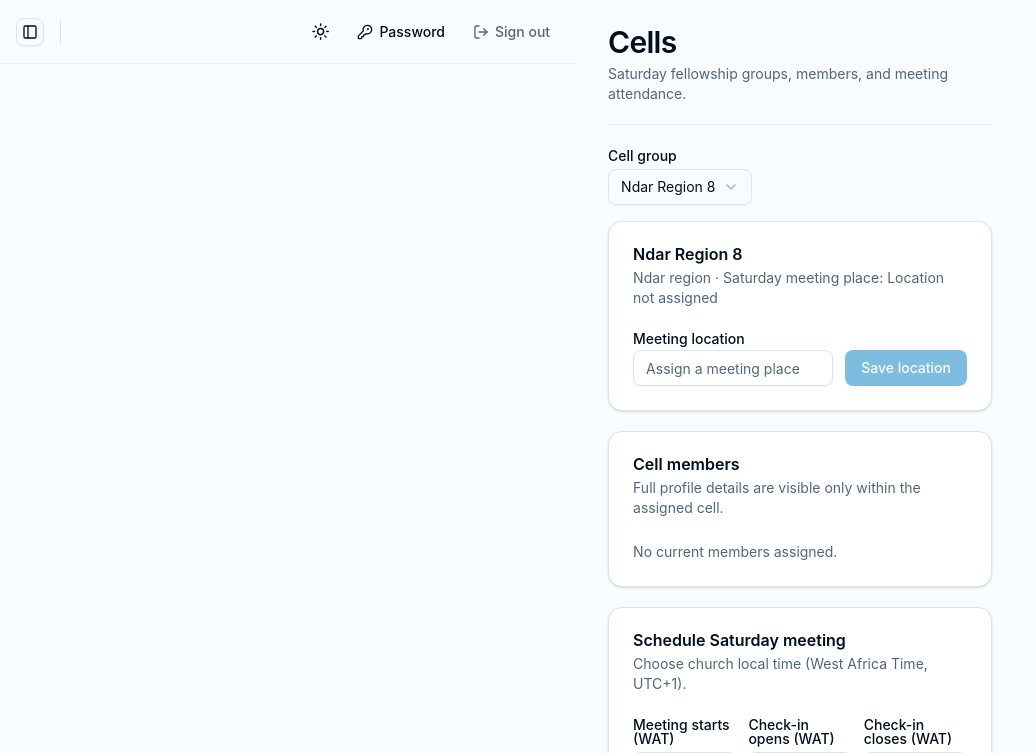
Test: CMAMS browser workflows › lets a leader set only their assigned cell location
The image size is (1036, 753).
Expected: the text "Ndar region · Saturday meeting place: Location not assigned" is shown, [633,268,967,308]
Type "Hall A" into the field labelled "Meeting location" at (733, 368), box [633,350,833,386]
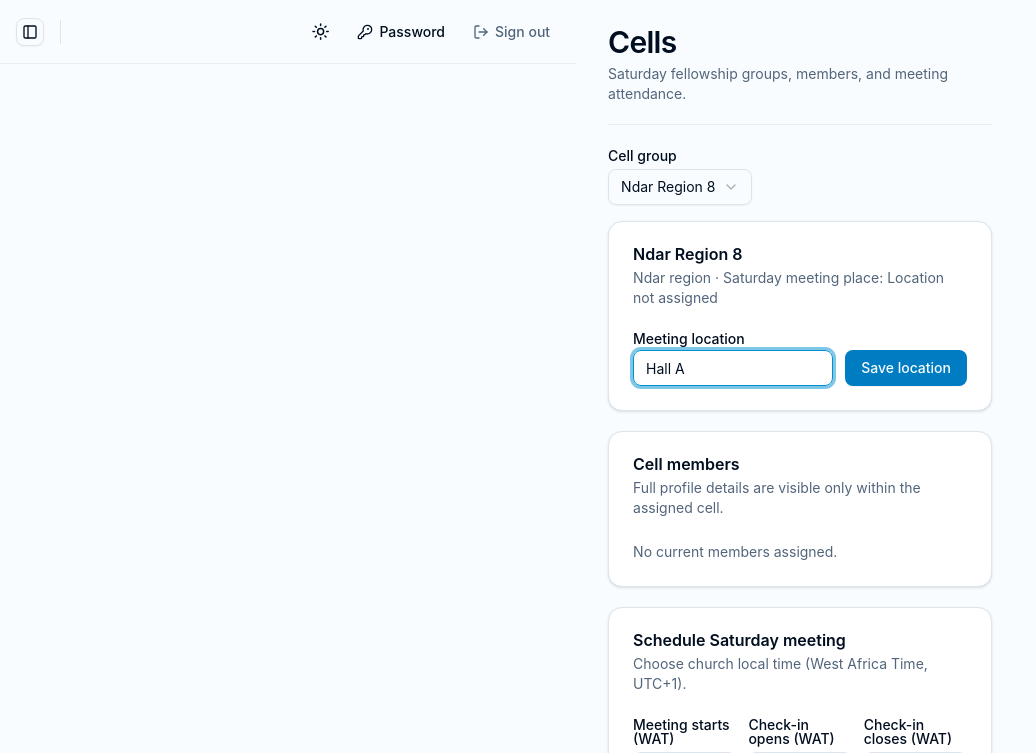
Click the button "Save location" at (906, 368), box [845,350,967,386]
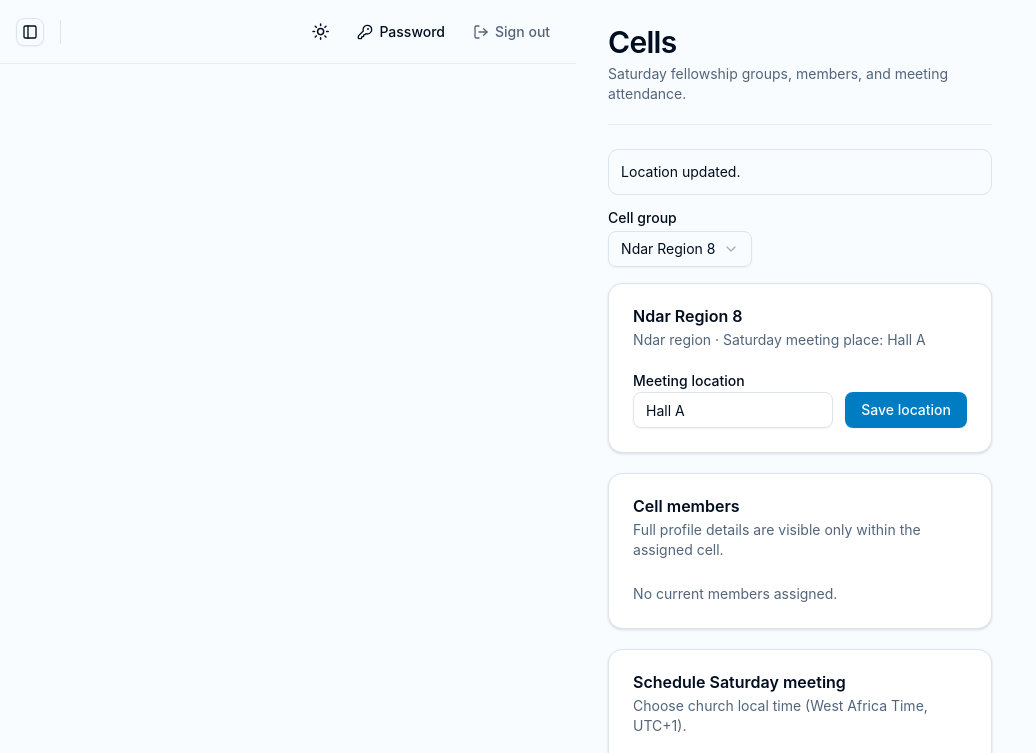
Expected: the text "Ndar region · Saturday meeting place: Hall A" is shown, [633,330,967,350]
